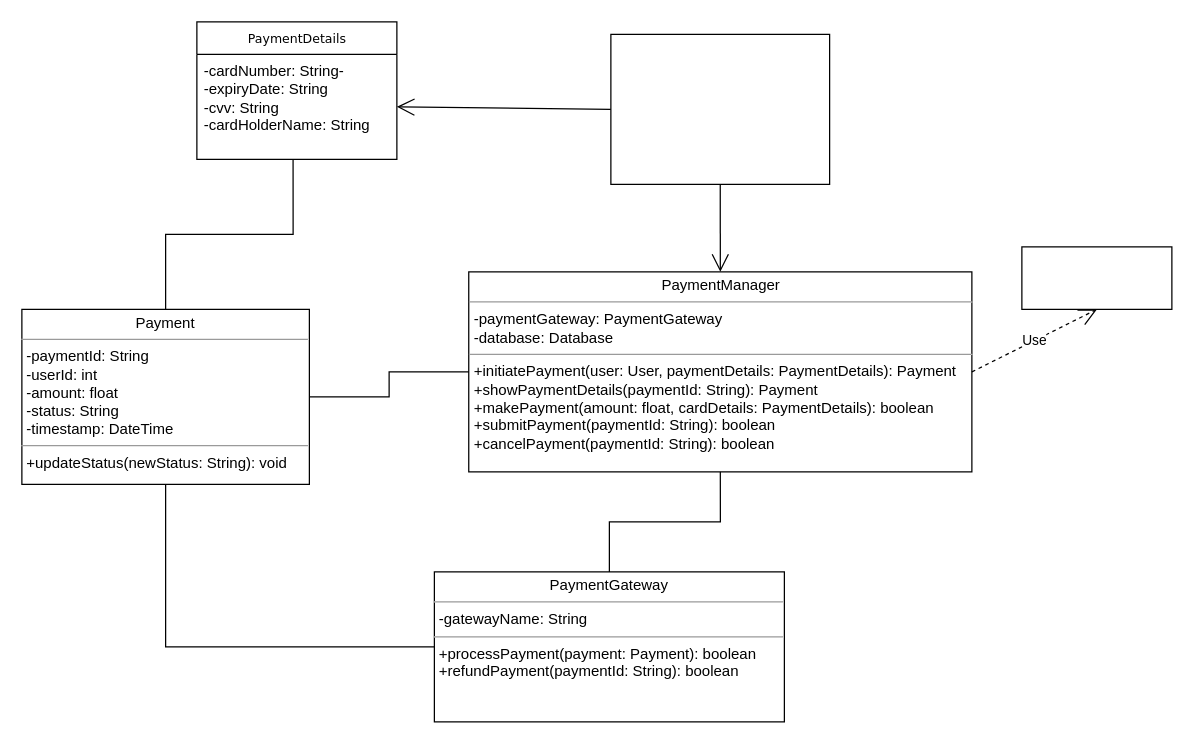
Image size: 1194x744. Some labels were removed from this diagram. Each missing label, with the centre of its shape:
"Database" belongs at point 1096,277.
"User - userId: int - name: string -paymentInfo: PaymentDetails ..." belongs at point 720,108.
